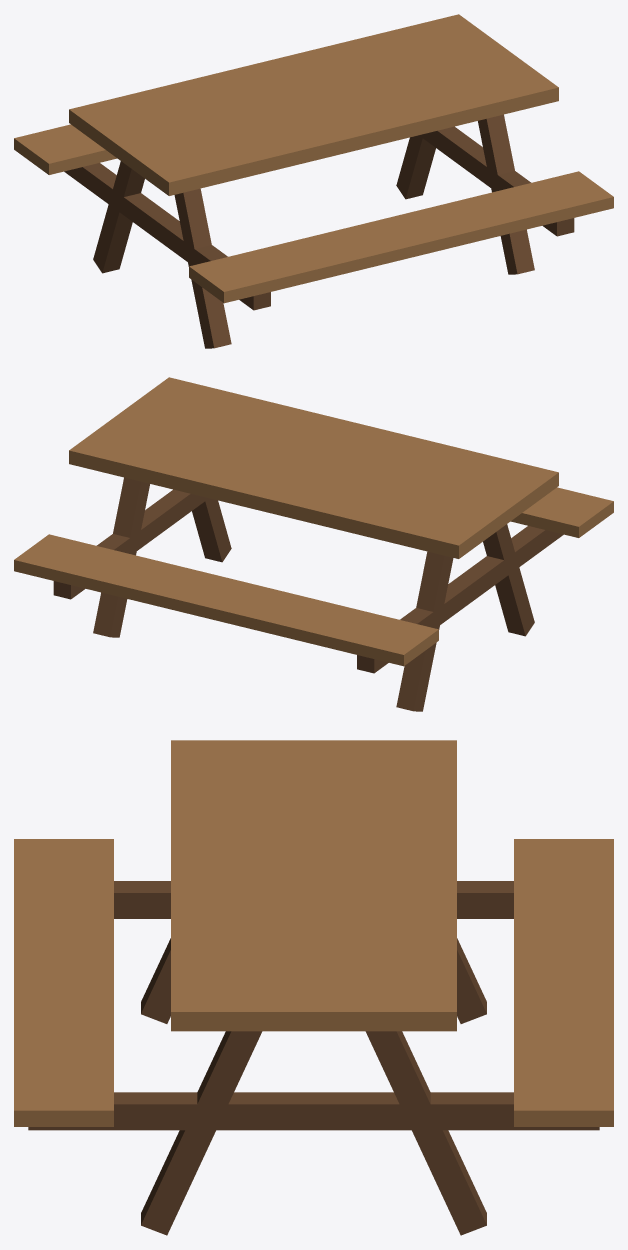
File: picnic_table.glb
The picture shows the model from 3 angles, top to bottom: view 1: azimuth 30°, elevation 25°; view 2: azimuth 150°, elevation 25°; view 3: azimuth 270°, elevation 25°; orthographic projection. The views are drawn at different scales.
Visible parts, largest first — view 1: picnic_table; view 2: picnic_table; view 3: picnic_table.
Part boxes in pixels (<box>): picnic_table: <box>14,14,613,348</box>; picnic_table: <box>14,377,613,711</box>; picnic_table: <box>14,740,613,1235</box>.
Bounding box in the file's own units: 1.8 × 0.7656 × 1.68.
